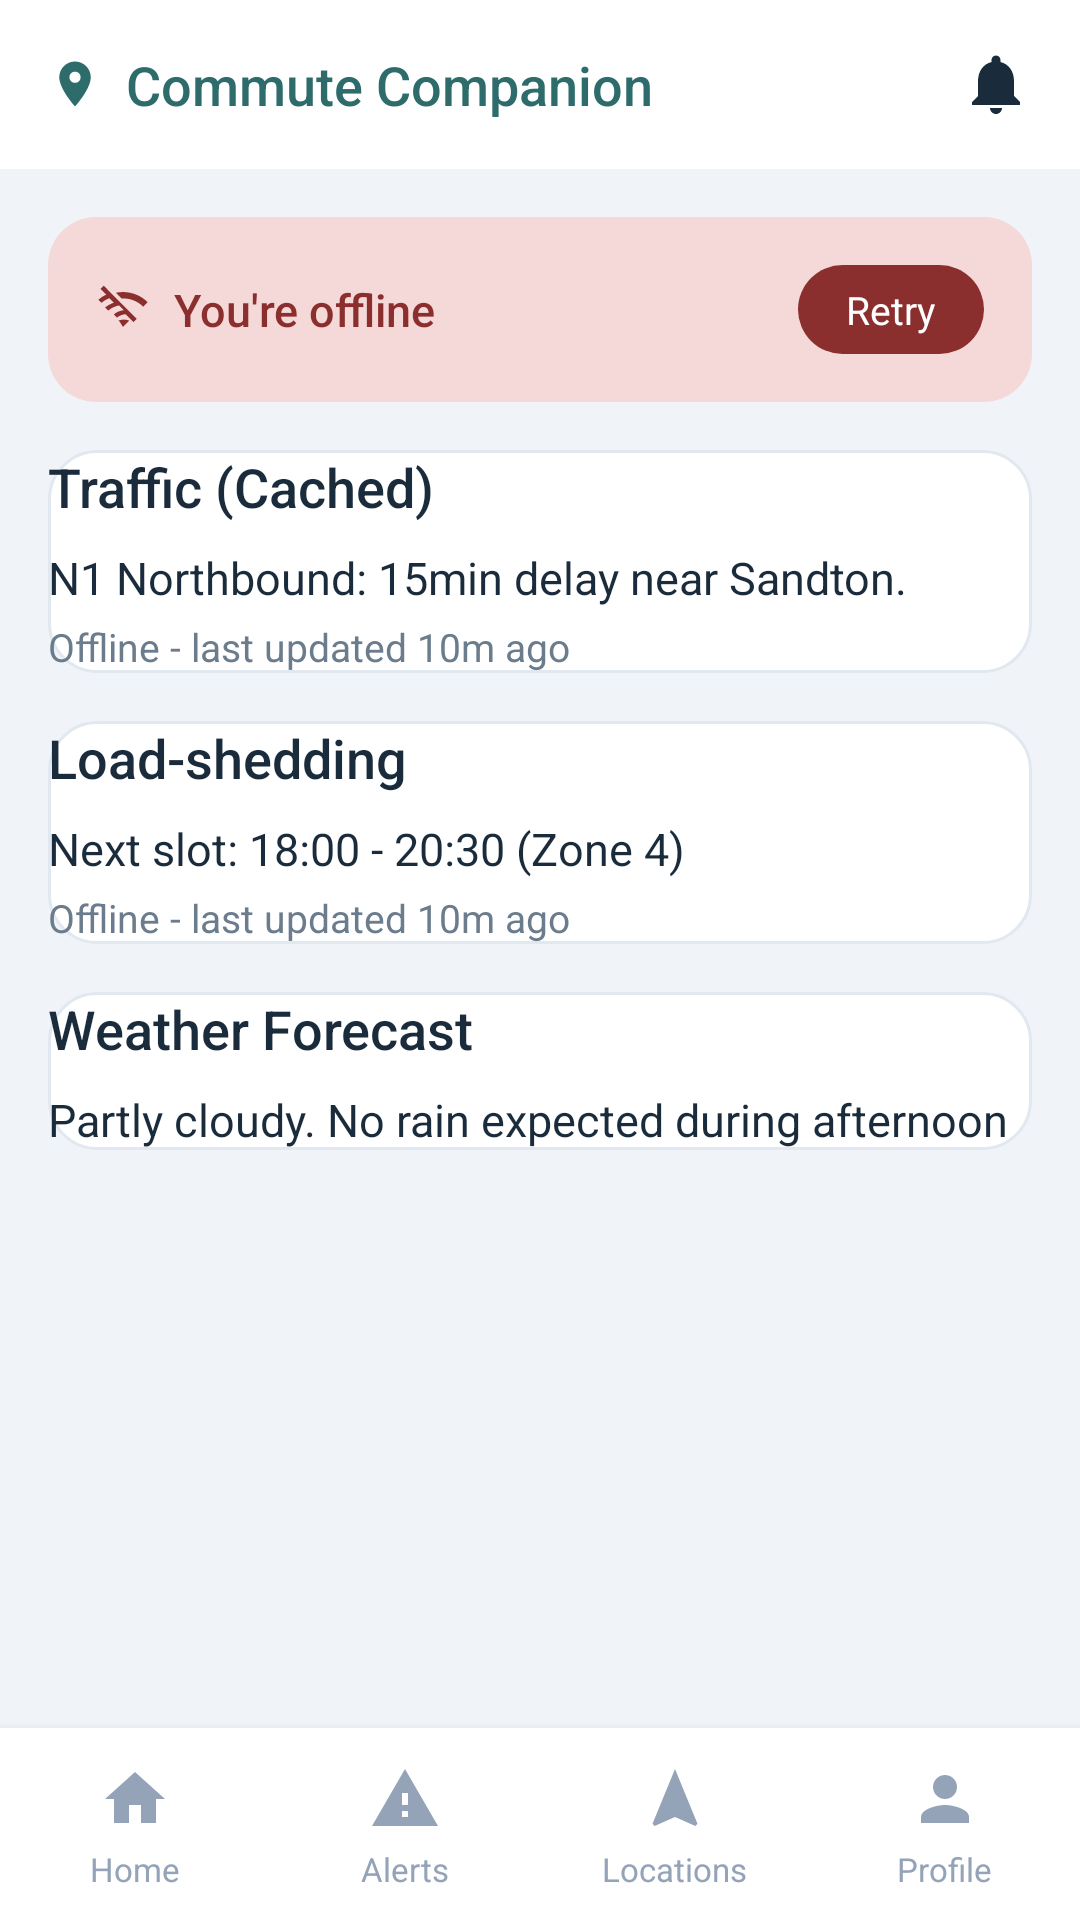

Screen size 1080*1920. Icon name, then its center in pixels as (x,y):
location pin: (75,83)
navigation: (675,1798)
notifications: (996,84)
person: (945,1799)
warning: (405,1797)
wifi off: (123,306)
